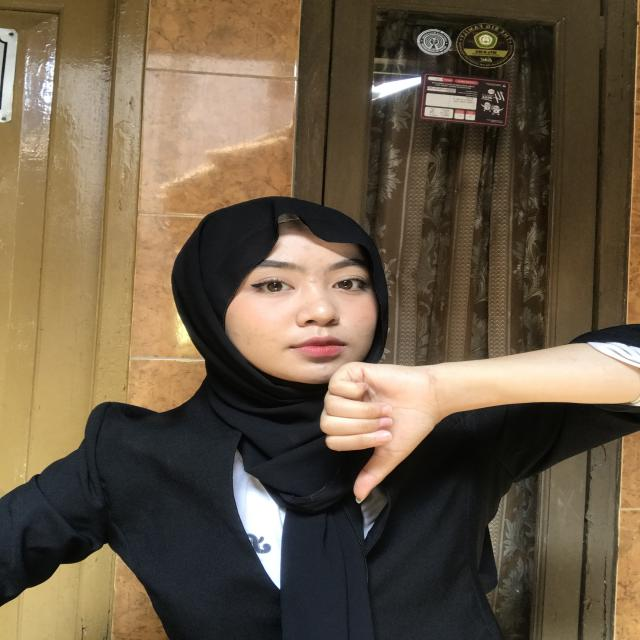sedih: (295, 342, 469, 508)
